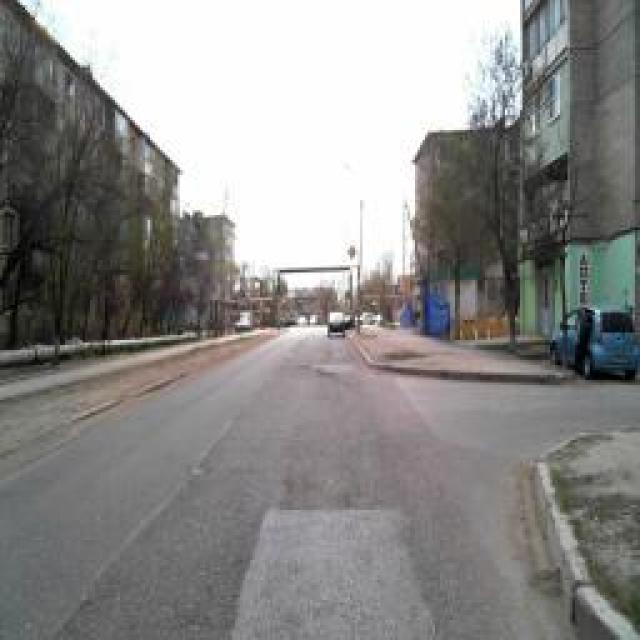sign: (348, 241, 358, 261)
